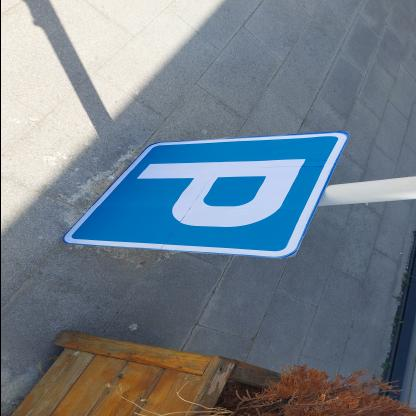Parking-Sign: (63, 133, 350, 261)
